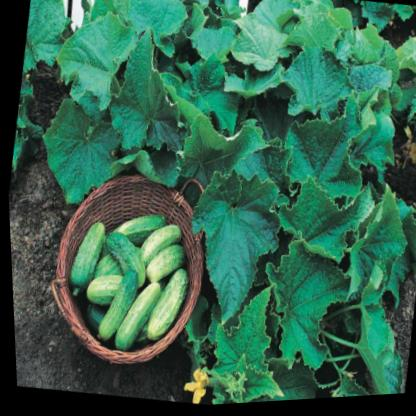--: (90, 264, 142, 343), (62, 215, 111, 298), (110, 275, 163, 350), (95, 230, 155, 287), (134, 213, 181, 268)
